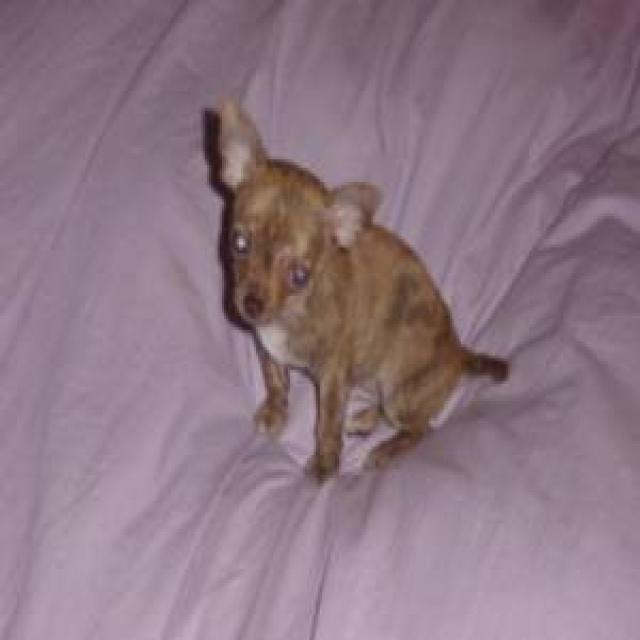dog-chihuahua: (203, 77, 518, 478)
